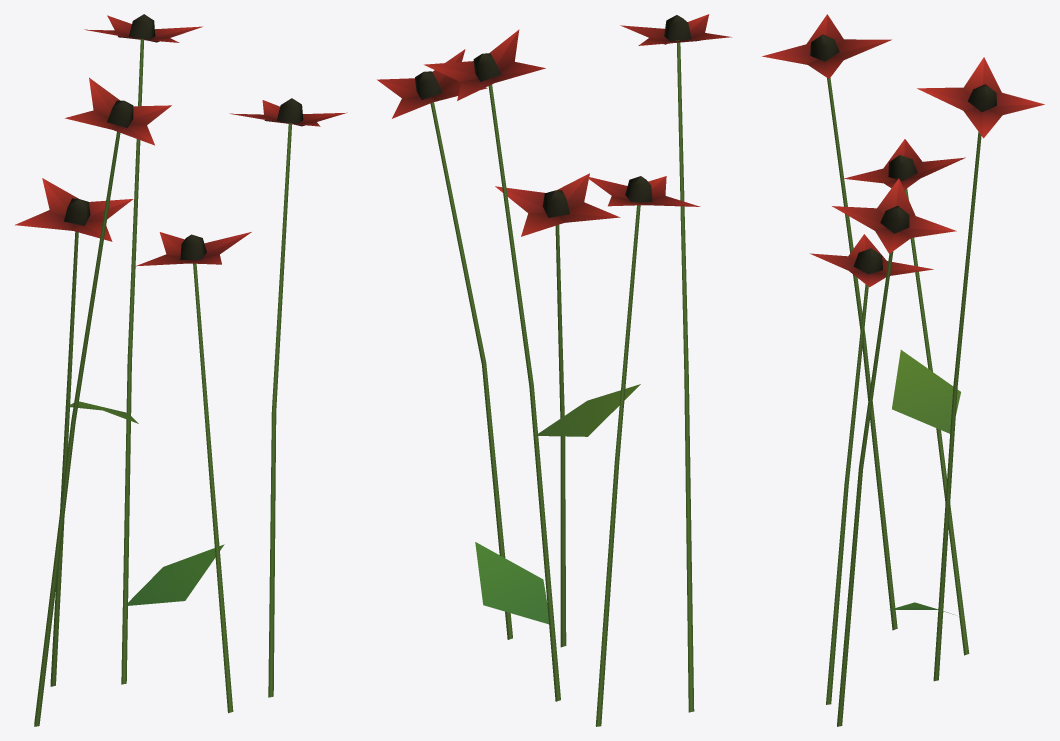
File: flower-poppy-b.lod2.glb
The picture shows the model from 3 angles, left to right: view 1: azimuth 30°, elevation 25°; view 2: azimuth 150°, elevation 25°; view 3: azimuth 270°, elevation 25°; orthographic projection. The views are drawn at different scales.
Visible parts, largest first — view 1: flower-poppy-b.lod2; view 2: flower-poppy-b.lod2; view 3: flower-poppy-b.lod2.
Part boxes in pixels (<box>): flower-poppy-b.lod2: <box>15,14,347,726</box>; flower-poppy-b.lod2: <box>377,14,731,726</box>; flower-poppy-b.lod2: <box>762,14,1044,726</box>.
Size of the model in its own units: 0.2921 by 0.5498 by 0.229.
